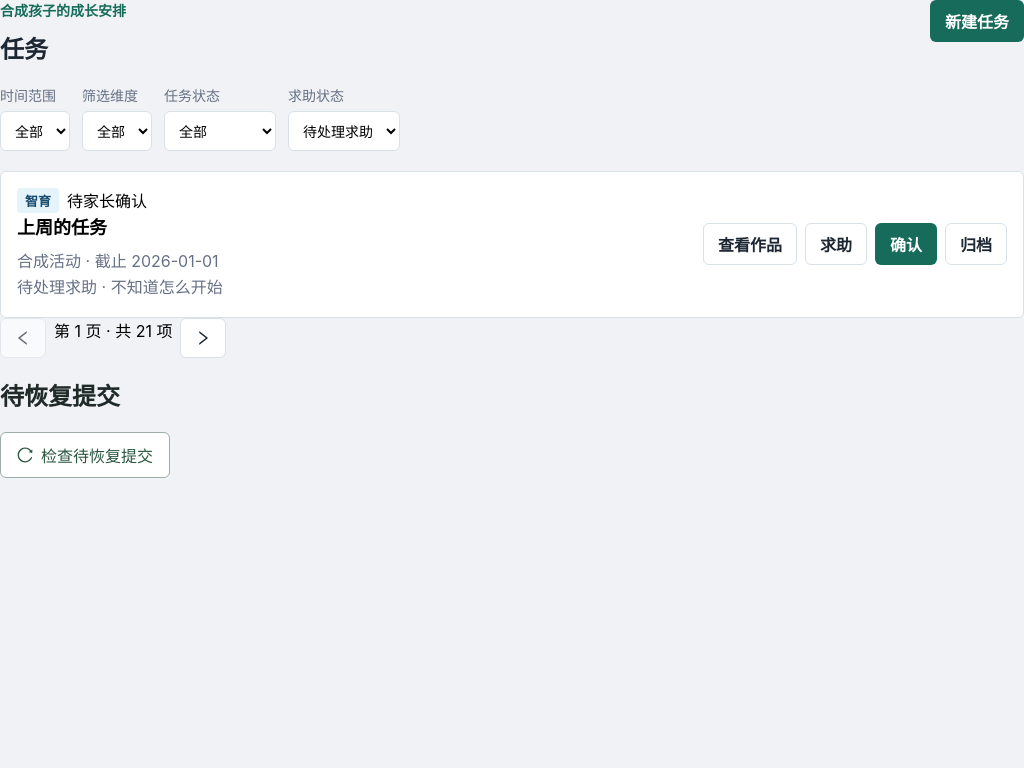
Scenario: cancel/archive completed removes excluded help and returns from an empty last page
The width and height of the screenshot is (1024, 768).
Expected: the heading "上周的任务" is shown, x1=17 y1=217 x2=107 y2=238
Click the button named "下一页任务".
click(203, 338)  # box x1=180 y1=318 x2=226 y2=358
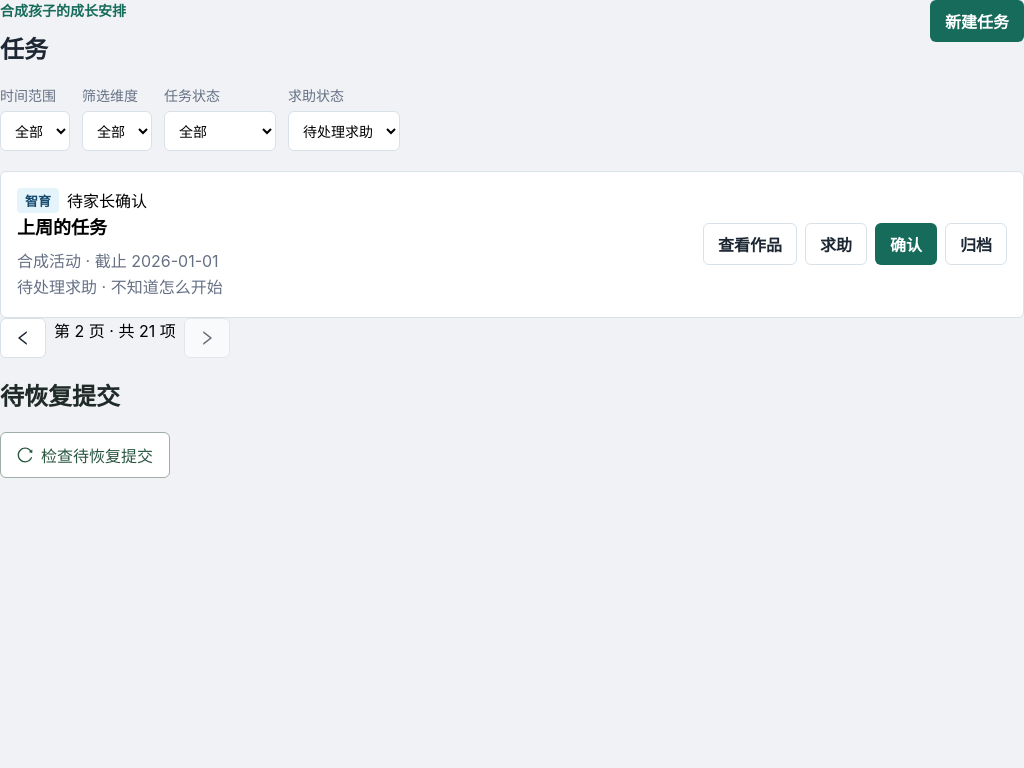
Click the button "归档".
click(976, 244)  # box x1=945 y1=224 x2=1007 y2=266
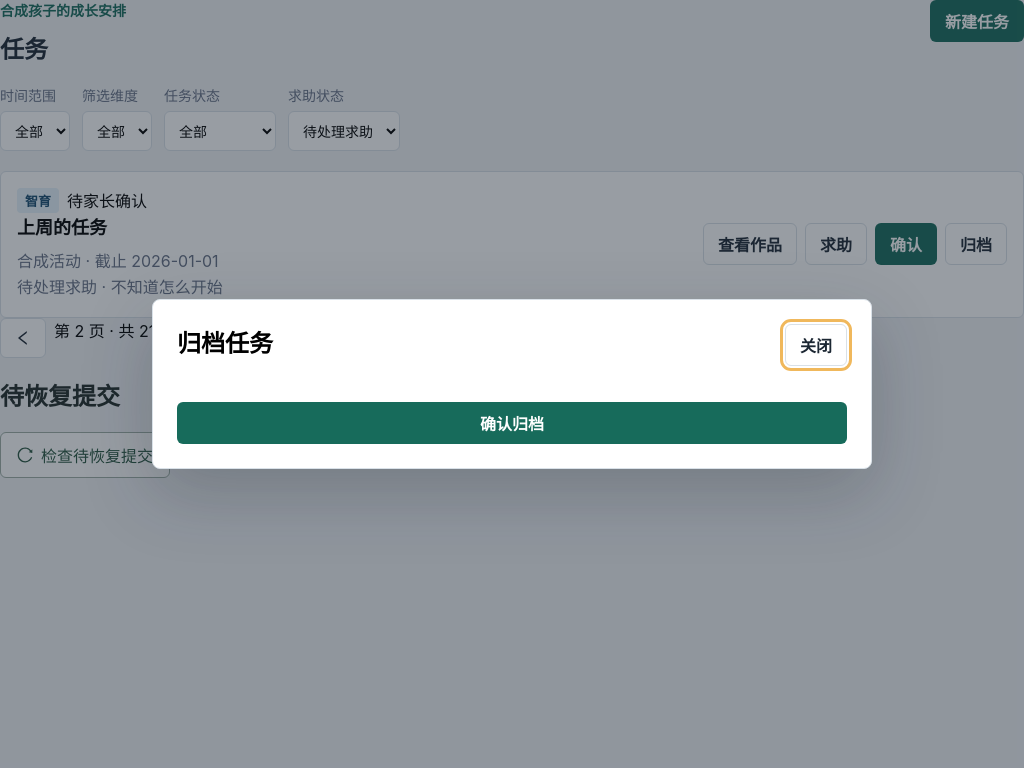
Click the 2nd button.
click(512, 423)  # box x1=177 y1=402 x2=847 y2=444
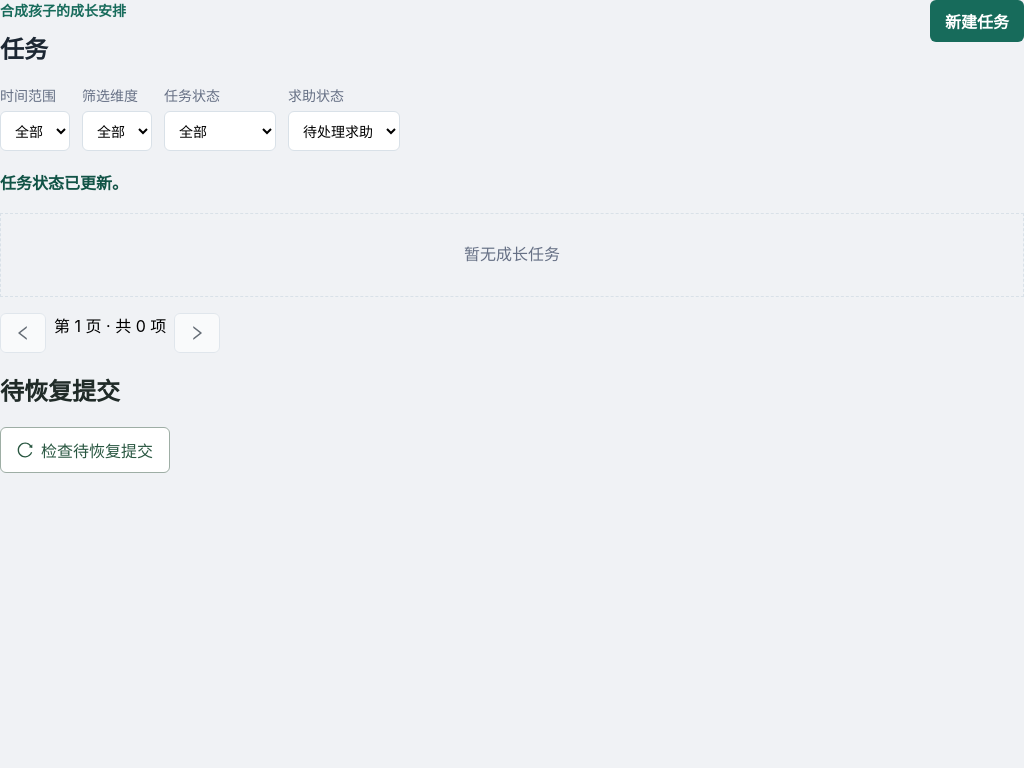
Expected: the text "暂无成长任务" is shown, x1=0 y1=213 x2=1023 y2=297
Expected: the heading "上周的任务" is gone
Expected: the text "第 1 页 · 共 0 项" is shown, x1=54 y1=316 x2=166 y2=336
